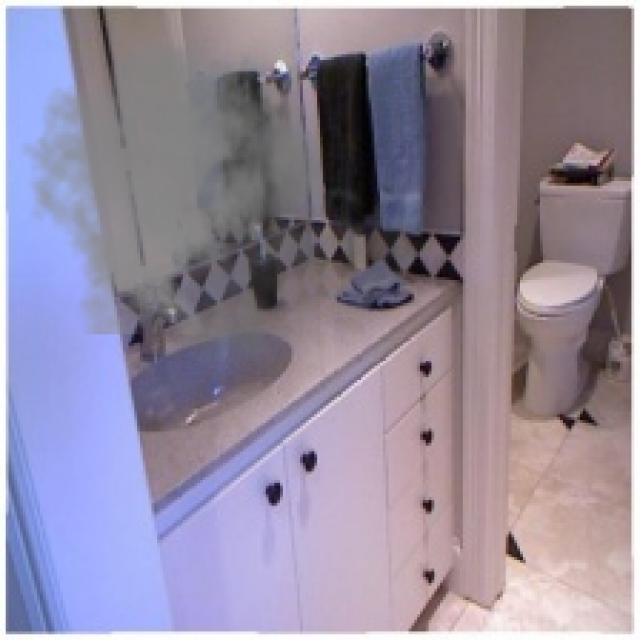smoke: (20, 17, 431, 377)
